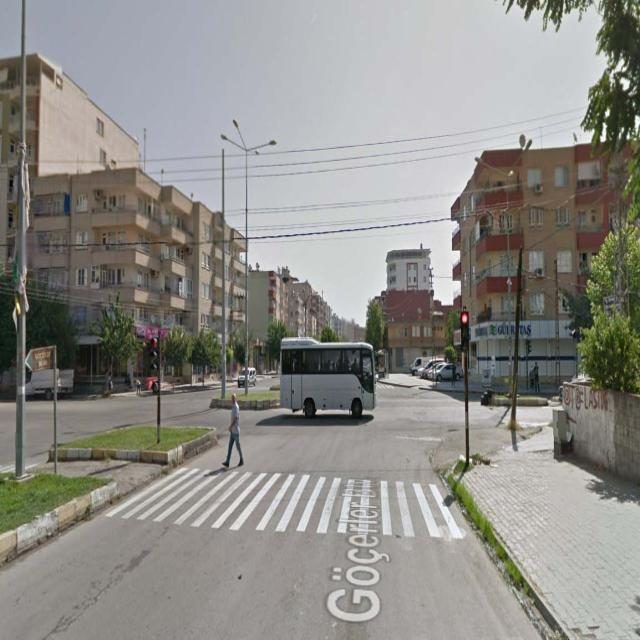kirmizi: (460, 313, 469, 352), (150, 337, 158, 372)
